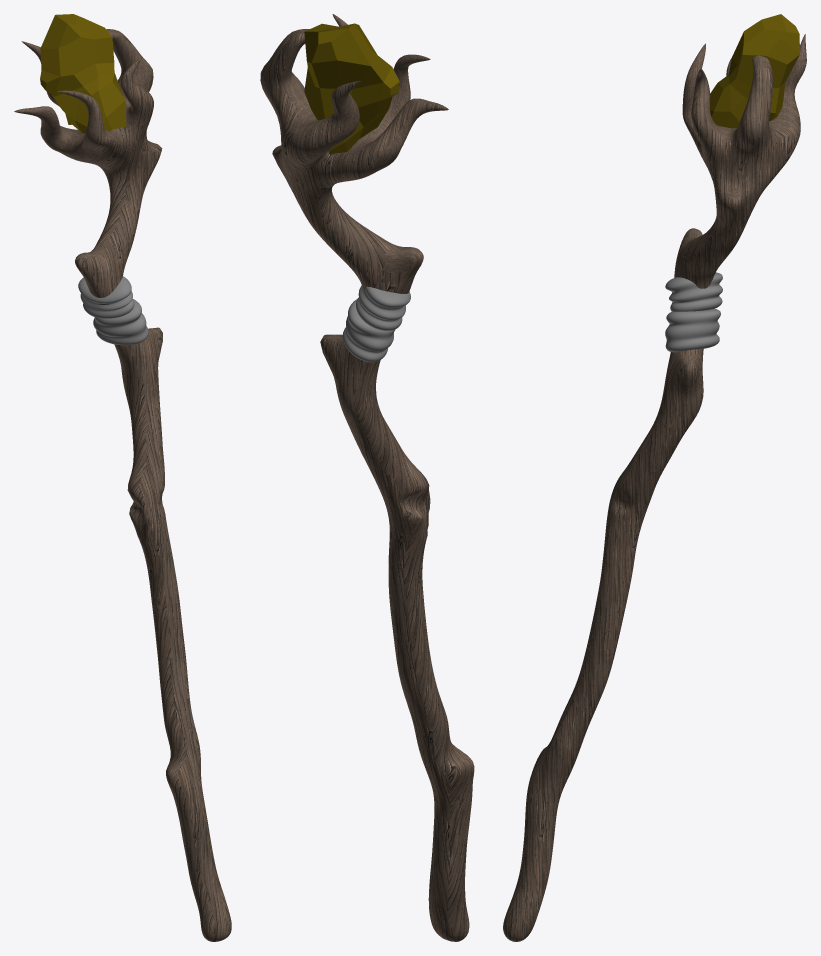
Rendered from CajadoHughan.fbx.
3 renders of one model, left to right at view 1: azimuth 30°, elevation 25°; view 2: azimuth 150°, elevation 25°; view 3: azimuth 270°, elevation 25°, orthographic. The views are drawn at different scales.
Visible parts, largest first — view 1: FBXASC054_group1; view 2: FBXASC054_group1; view 3: FBXASC054_group1.
Part boxes in pixels (x1,y1,x2,y2): FBXASC054_group1: (14, 14, 231, 941); FBXASC054_group1: (260, 14, 474, 941); FBXASC054_group1: (503, 14, 806, 941).
Size of the model in its own units: 7.03 by 39 by 11.85.
3 materials, 1 textured.
